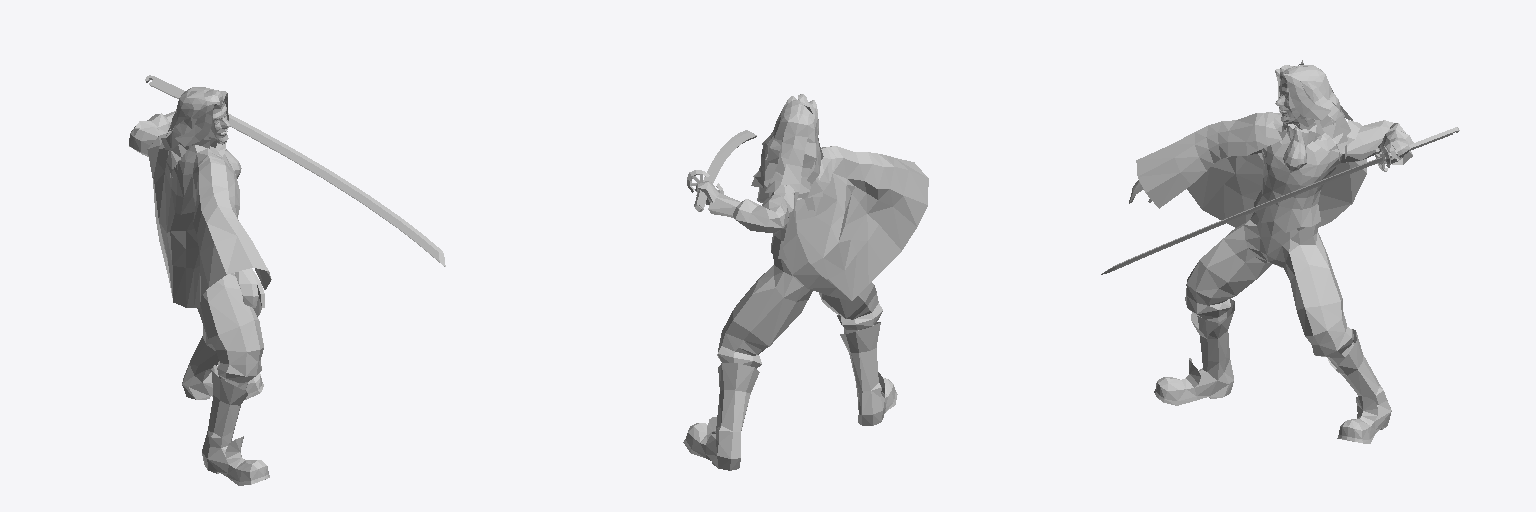
The model's file is dun_attack_2_000007.obj.
The picture shows the model from 3 angles: view 1: azimuth 30°, elevation 25°; view 2: azimuth 150°, elevation 25°; view 3: azimuth 270°, elevation 25°; orthographic projection.
Parts seen in each view (by area): view 1: GamemodelShape.002, GamemodelShape1.002, GamemodelShape2.002; view 2: GamemodelShape.002, GamemodelShape1.002; view 3: GamemodelShape.002, GamemodelShape1.002.
Boxes of the visible parts, x1=… form: GamemodelShape.002: x1=129, y1=75, x2=445, y2=485; GamemodelShape1.002: x1=161, y1=87, x2=228, y2=177; GamemodelShape2.002: x1=235, y1=268, x2=264, y2=307; GamemodelShape.002: x1=683, y1=130, x2=928, y2=470; GamemodelShape1.002: x1=751, y1=94, x2=823, y2=216; GamemodelShape.002: x1=1101, y1=76, x2=1459, y2=443; GamemodelShape1.002: x1=1275, y1=60, x2=1352, y2=160.
Size of the model in its own units: 3.01 by 4.79 by 4.52.